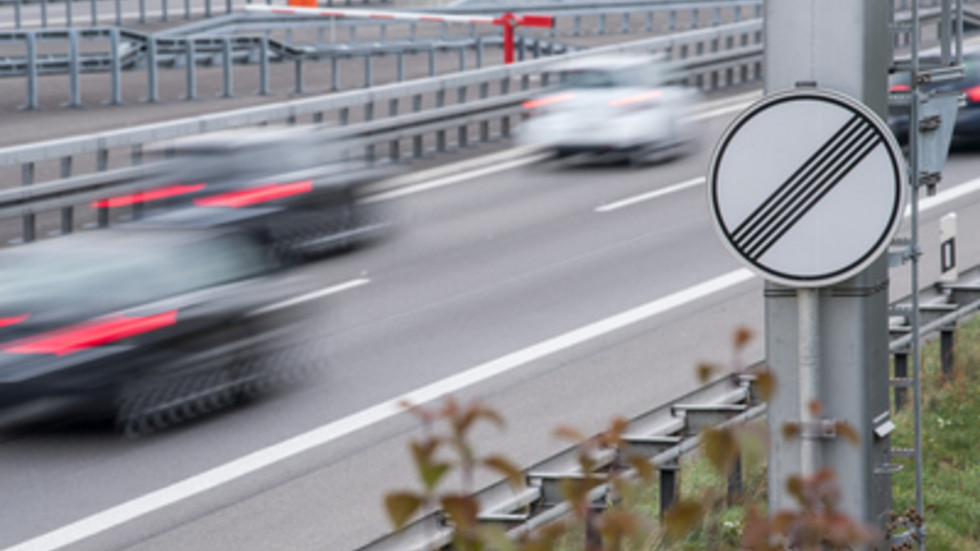aufgehoben: (706, 90, 905, 289)
